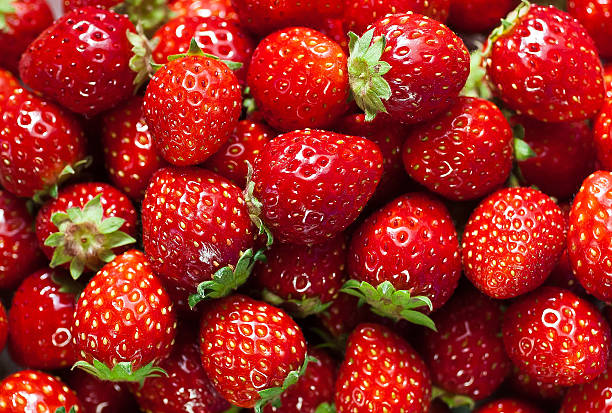Fresa: (140, 161, 264, 303), (340, 180, 461, 324), (247, 129, 387, 249), (14, 2, 154, 121), (487, 2, 612, 126), (71, 245, 181, 383), (195, 288, 313, 410), (353, 11, 475, 123), (1, 62, 94, 204), (397, 94, 518, 202), (142, 48, 246, 173), (246, 22, 356, 137), (463, 182, 569, 301), (502, 281, 608, 387), (33, 178, 142, 281), (330, 319, 439, 413), (10, 266, 94, 373), (565, 166, 612, 309)
